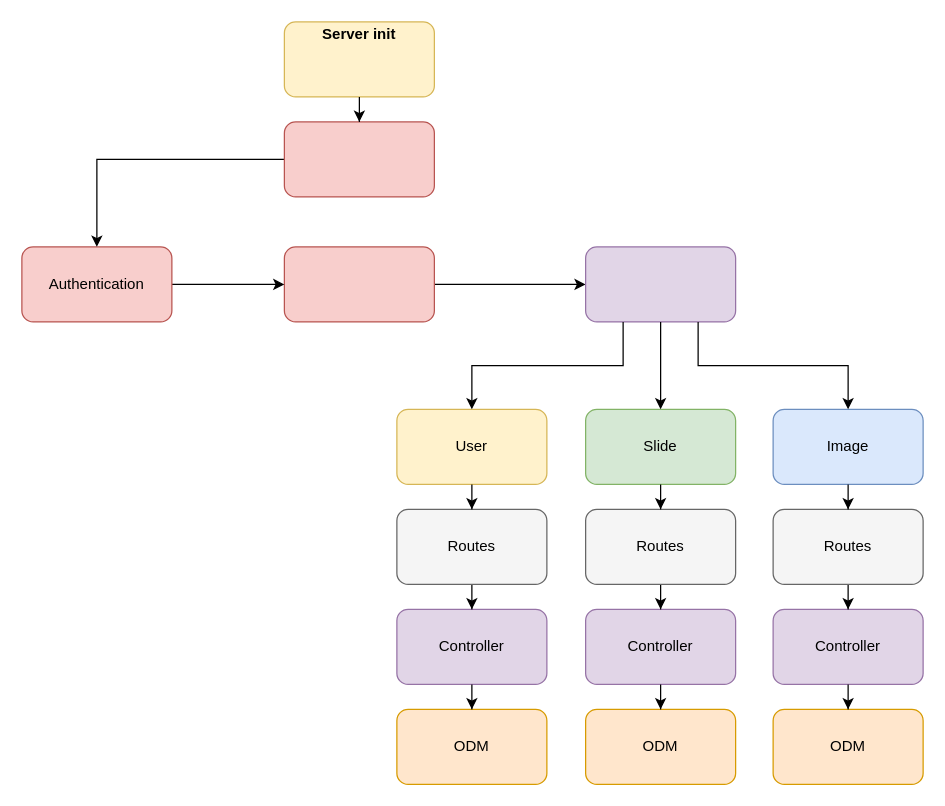
This 945x806 diagram has some shape labels left out. The box of each missing label's shape, as (x1, y1, x2, y2) in pixels:
index.js index.routes.js: (283, 21, 434, 97)
Models: (584, 246, 736, 322)
Request Handler express.js: (283, 121, 434, 197)
Validation: (283, 246, 434, 322)
